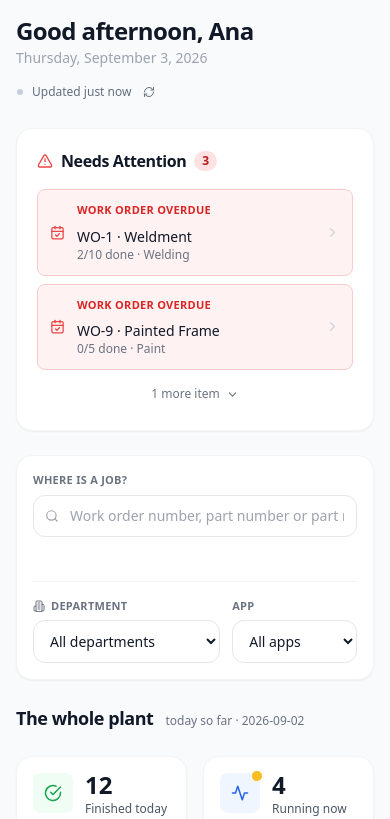
Test: the scope reaches every number on the page › renders a dash with the payload’s own reason — never a 0 — for an empty department
Select "Paint" in the dropdown labelled "Department" at (127, 642), box x1=33 y1=620 x2=220 y2=663
(page scrolled)
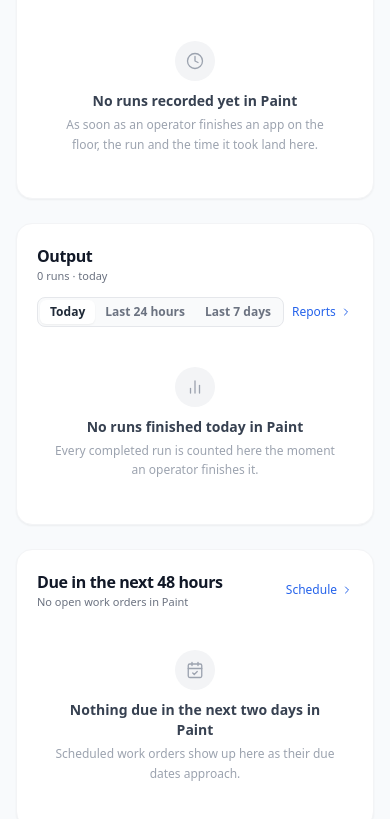
Check: the text "No runs recorded yet in Paint" is shown, box x1=93 y1=91 x2=297 y2=111
Check: the text "No runs finished today in Paint" is shown, box x1=87 y1=416 x2=303 y2=436
